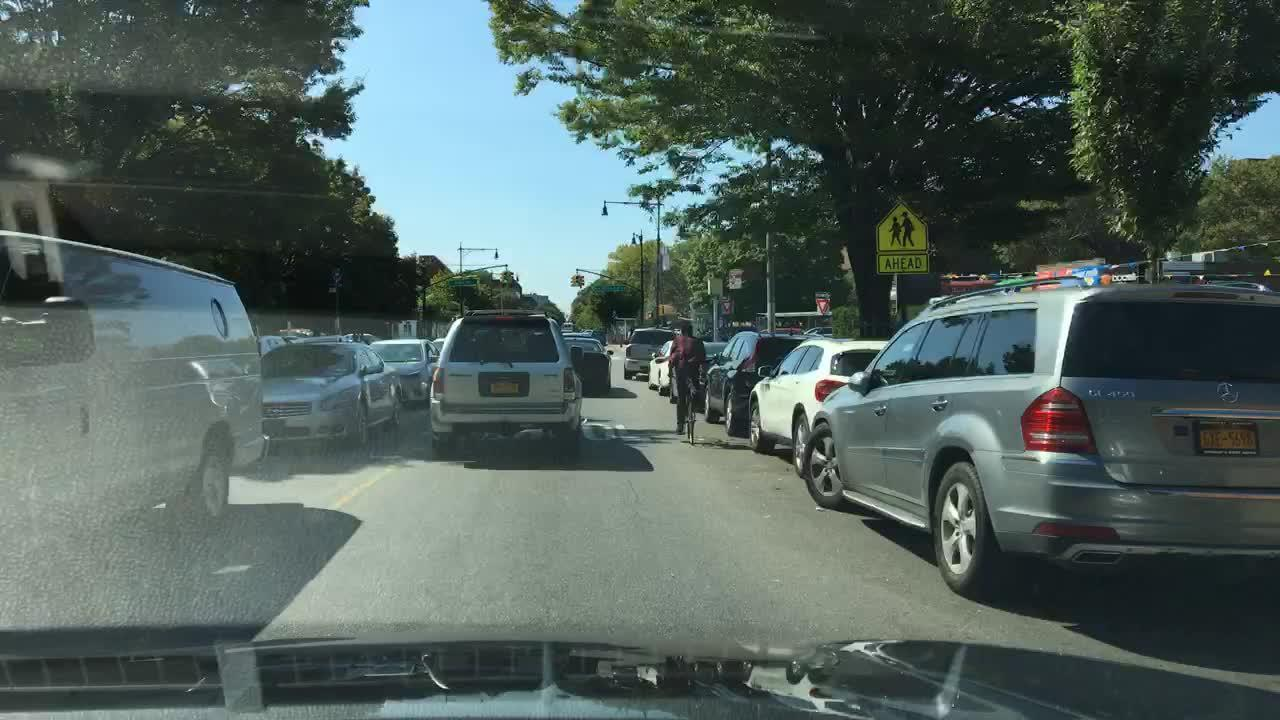Mercedes: (1208, 371, 1255, 414)
